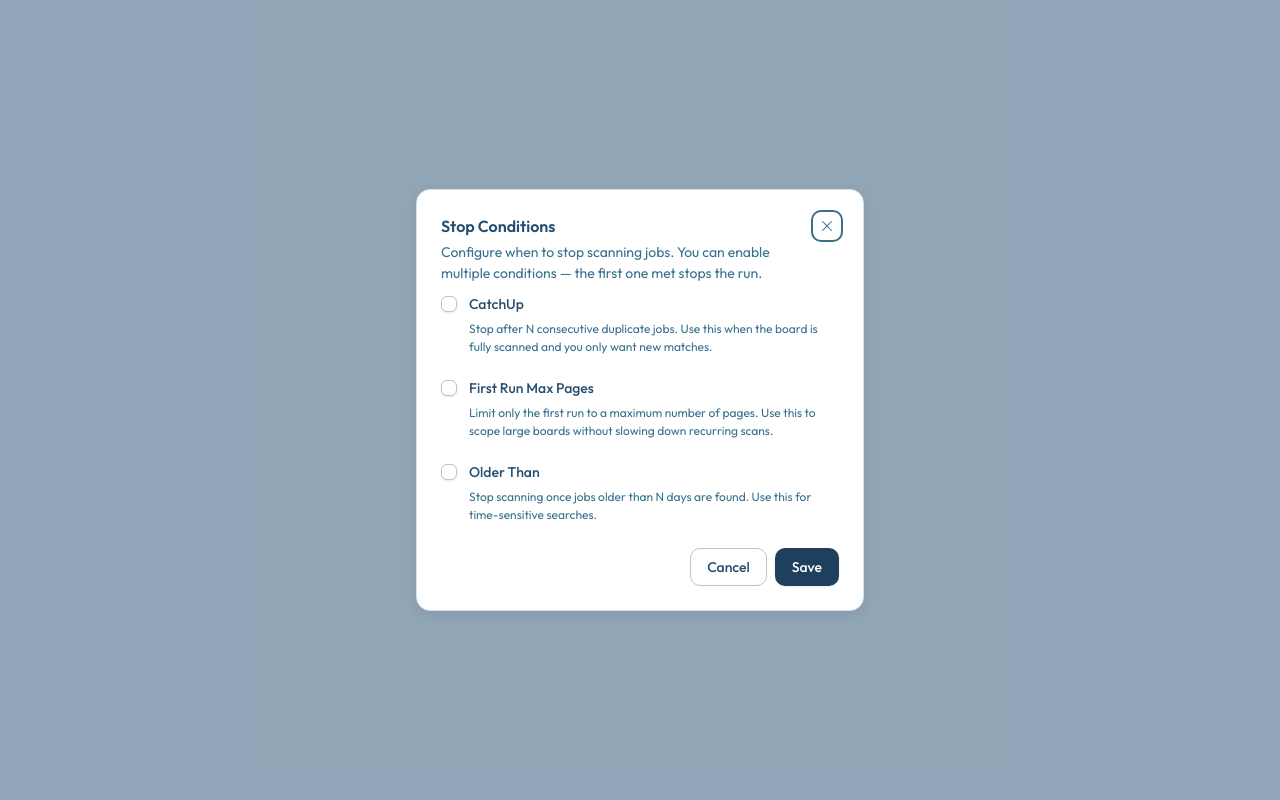
Test: SourceStopConfigDialog › shows days input after enabling OlderThan
Click the text "Older Than": (504, 472) [469, 463, 540, 481]
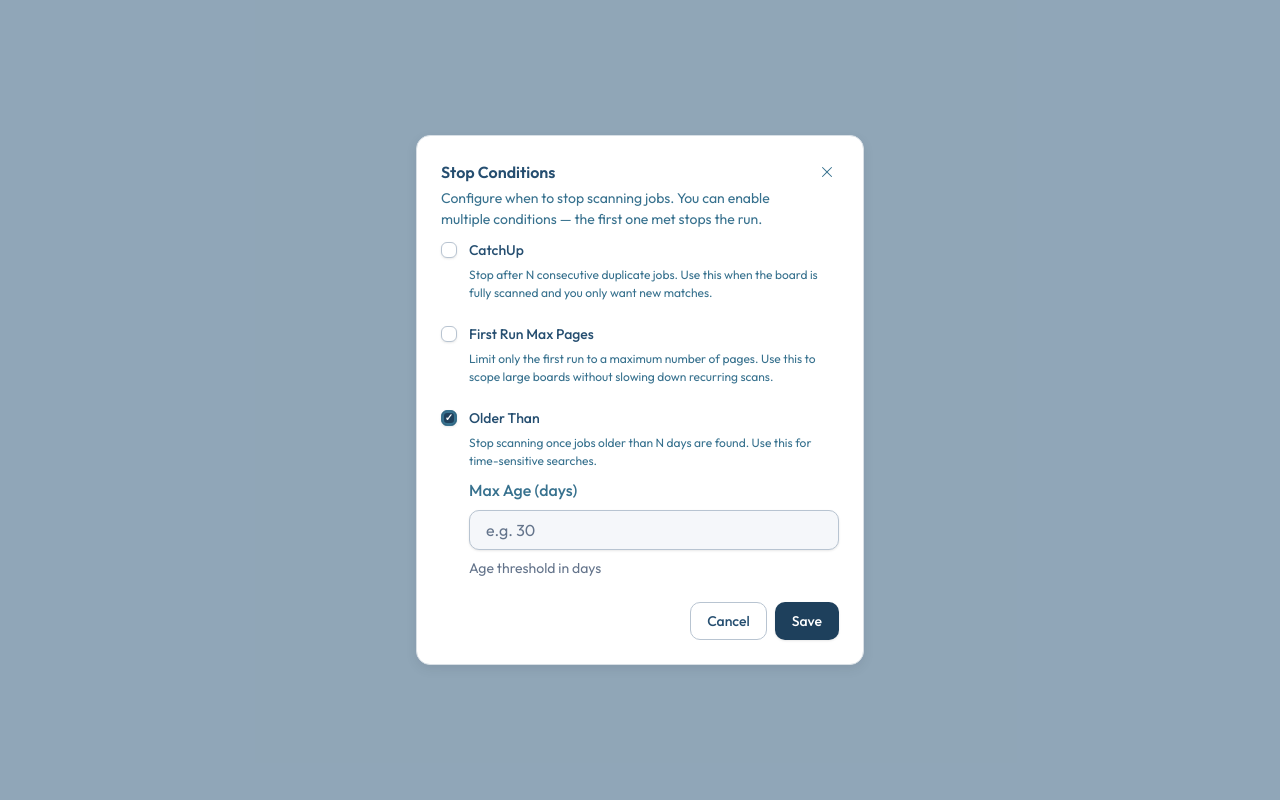
Check: the number field with placeholder "e.g. 30" is shown, box [469, 510, 839, 550]
